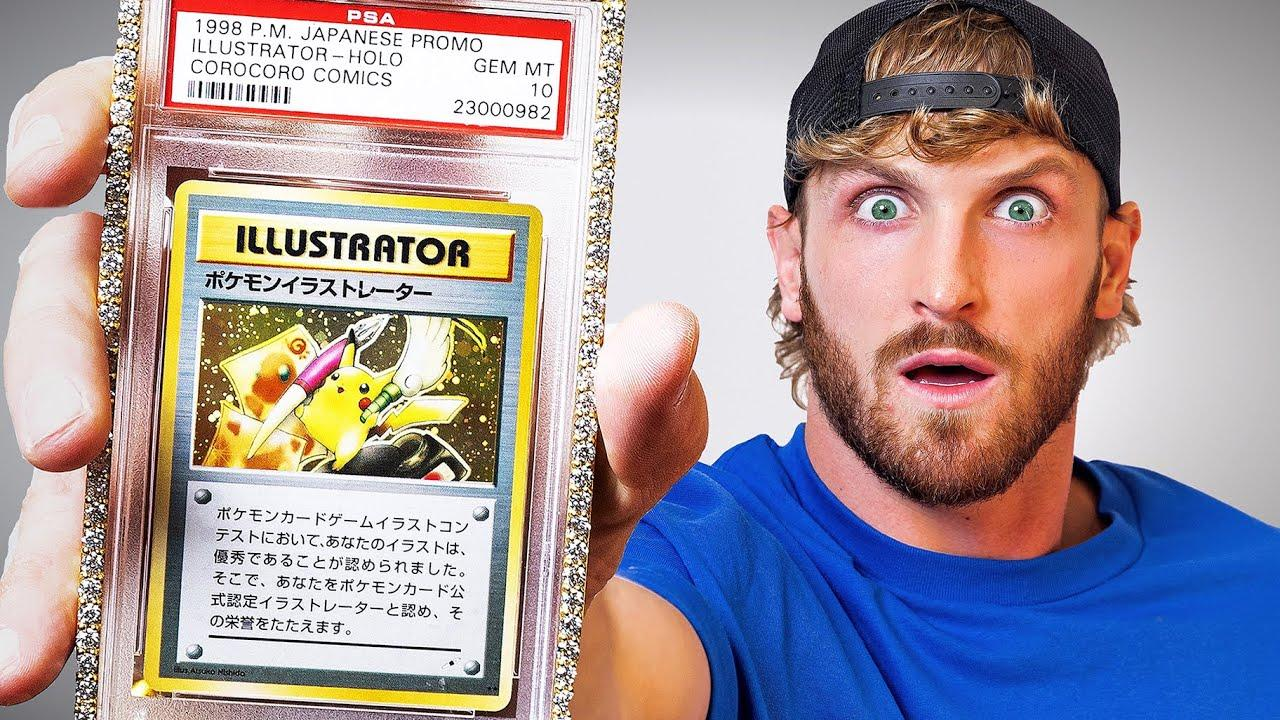card: (143, 179, 544, 713)
